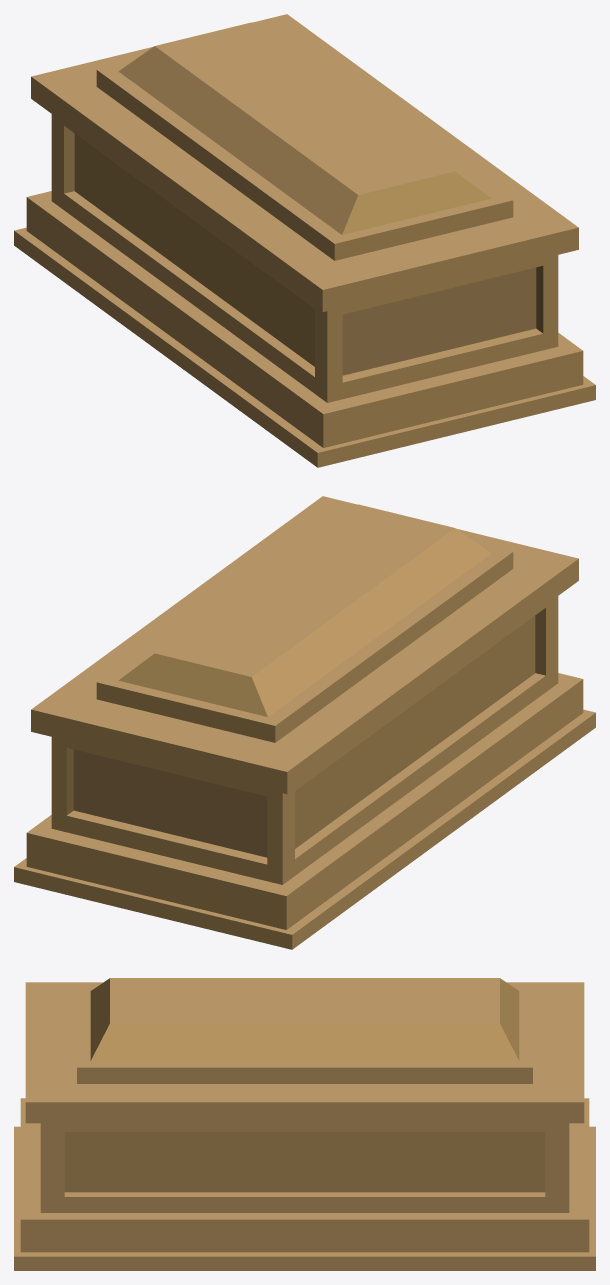
File: ST_Prop_Stone_Coffin_01.fbx
The picture shows the model from 3 angles, top to bottom: view 1: azimuth 30°, elevation 25°; view 2: azimuth 150°, elevation 25°; view 3: azimuth 270°, elevation 25°; orthographic projection. The views are drawn at different scales.
Visible parts, largest first — view 1: ST_Prop_Stone_Coffin_Lid_01, ST_Prop_Stone_Coffin_01; view 2: ST_Prop_Stone_Coffin_Lid_01, ST_Prop_Stone_Coffin_01; view 3: ST_Prop_Stone_Coffin_01, ST_Prop_Stone_Coffin_Lid_01.
Part boxes in pixels (left/top/right/bottom): ST_Prop_Stone_Coffin_Lid_01: left=31, top=14, right=578, bottom=311; ST_Prop_Stone_Coffin_01: left=14, top=114, right=595, bottom=467; ST_Prop_Stone_Coffin_Lid_01: left=31, top=496, right=578, bottom=793; ST_Prop_Stone_Coffin_01: left=14, top=596, right=595, bottom=949; ST_Prop_Stone_Coffin_01: left=14, top=1098, right=595, bottom=1270; ST_Prop_Stone_Coffin_Lid_01: left=25, top=978, right=584, bottom=1123.
Size of the model in its own units: 1.85 by 1.36 by 3.51.
